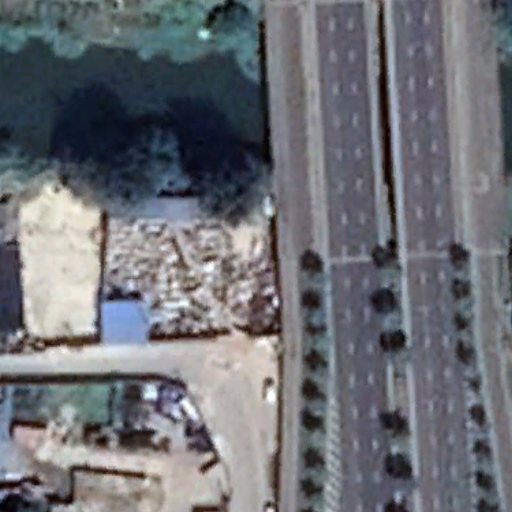msw: (102, 216, 283, 336)
